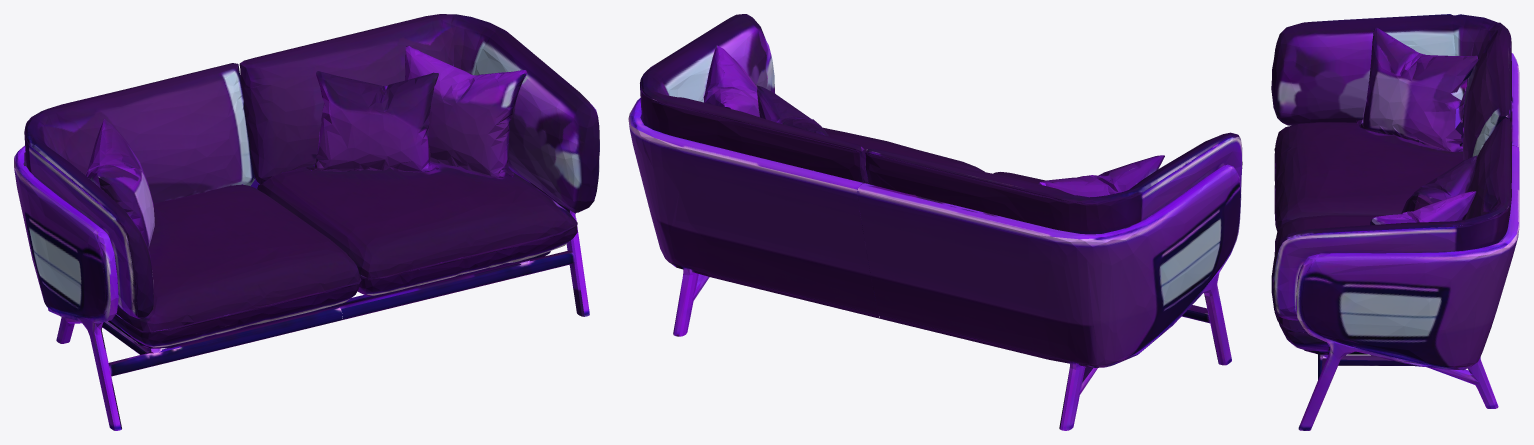
The model's file is edited_mesh.glb.
3 views of the same model, side by side, from view 1: azimuth 30°, elevation 25°; view 2: azimuth 150°, elevation 25°; view 3: azimuth 270°, elevation 25° (orthographic). The views are drawn at different scales.
Parts seen in each view (by area): view 1: solid_001_wire; view 2: solid_001_wire; view 3: solid_001_wire.
Boxes of the visible parts, x1,y1,x2,y2 form: solid_001_wire: (14,14,599,430); solid_001_wire: (628,14,1242,430); solid_001_wire: (1271,14,1519,430).
Bounding box in the file's own units: 2 × 0.8758 × 0.9391.
Materials: 1 (1 with a texture image).
